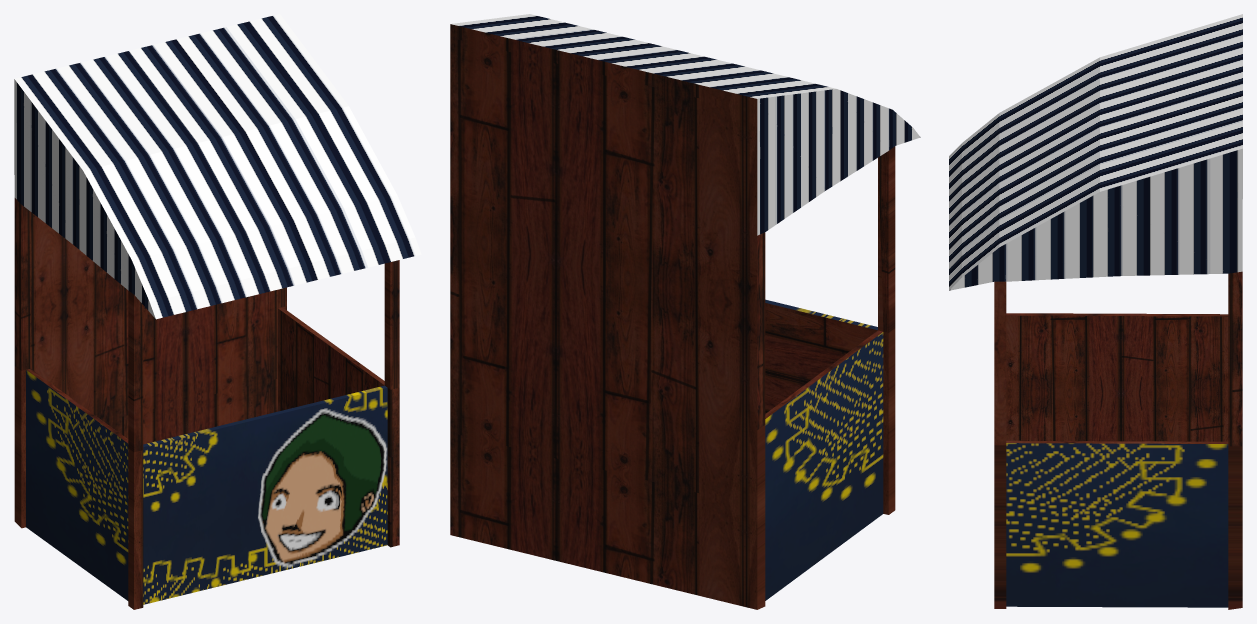
File: stall2.fbx
3 renders of one model, left to right at view 1: azimuth 30°, elevation 25°; view 2: azimuth 150°, elevation 25°; view 3: azimuth 270°, elevation 25°, orthographic. The views are drawn at different scales.
Parts seen in each view (by area): view 1: Cube; view 2: Cube; view 3: Cube.
Part boxes in pixels (x1,y1,x2,y2): Cube: (14,14,421,609); Cube: (450,14,920,609); Cube: (949,14,1242,609).
Bounding box in the file's own units: 892 × 1427 × 824.
